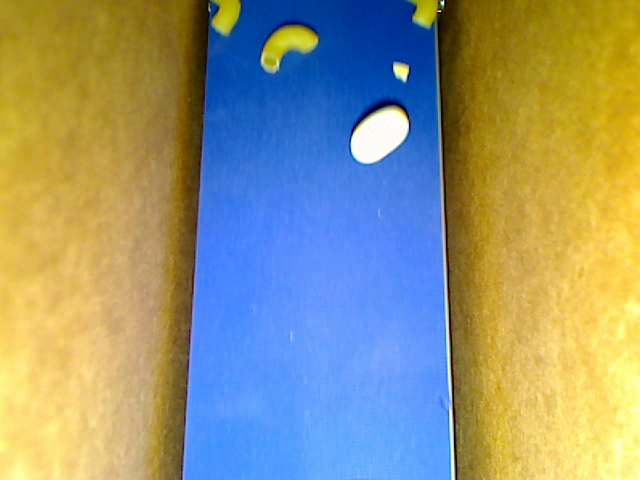elbow: (261, 24, 319, 73), (209, 1, 242, 39), (405, 1, 438, 31)
